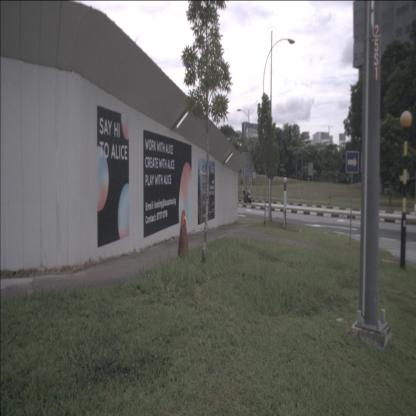cone: (176, 210, 191, 260)
